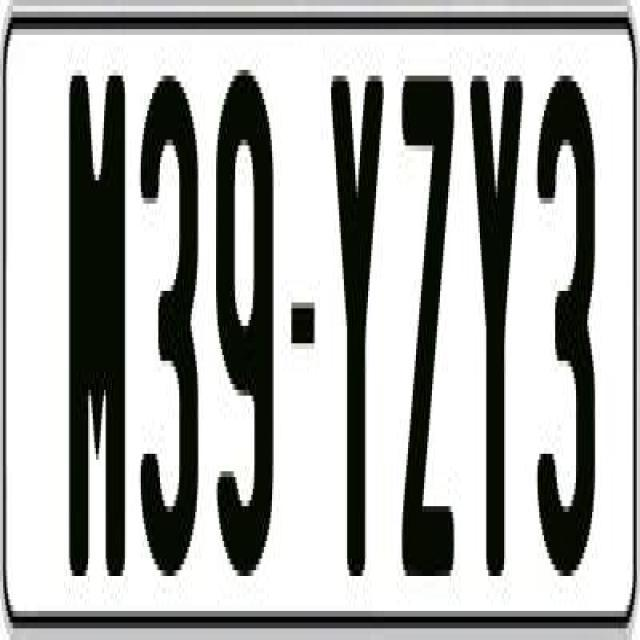3: (538, 58, 604, 594), (136, 58, 197, 594)
9: (213, 52, 272, 564)
M: (68, 58, 130, 564)
Y: (326, 76, 389, 600), (467, 64, 530, 576)
Z: (398, 75, 456, 588)
